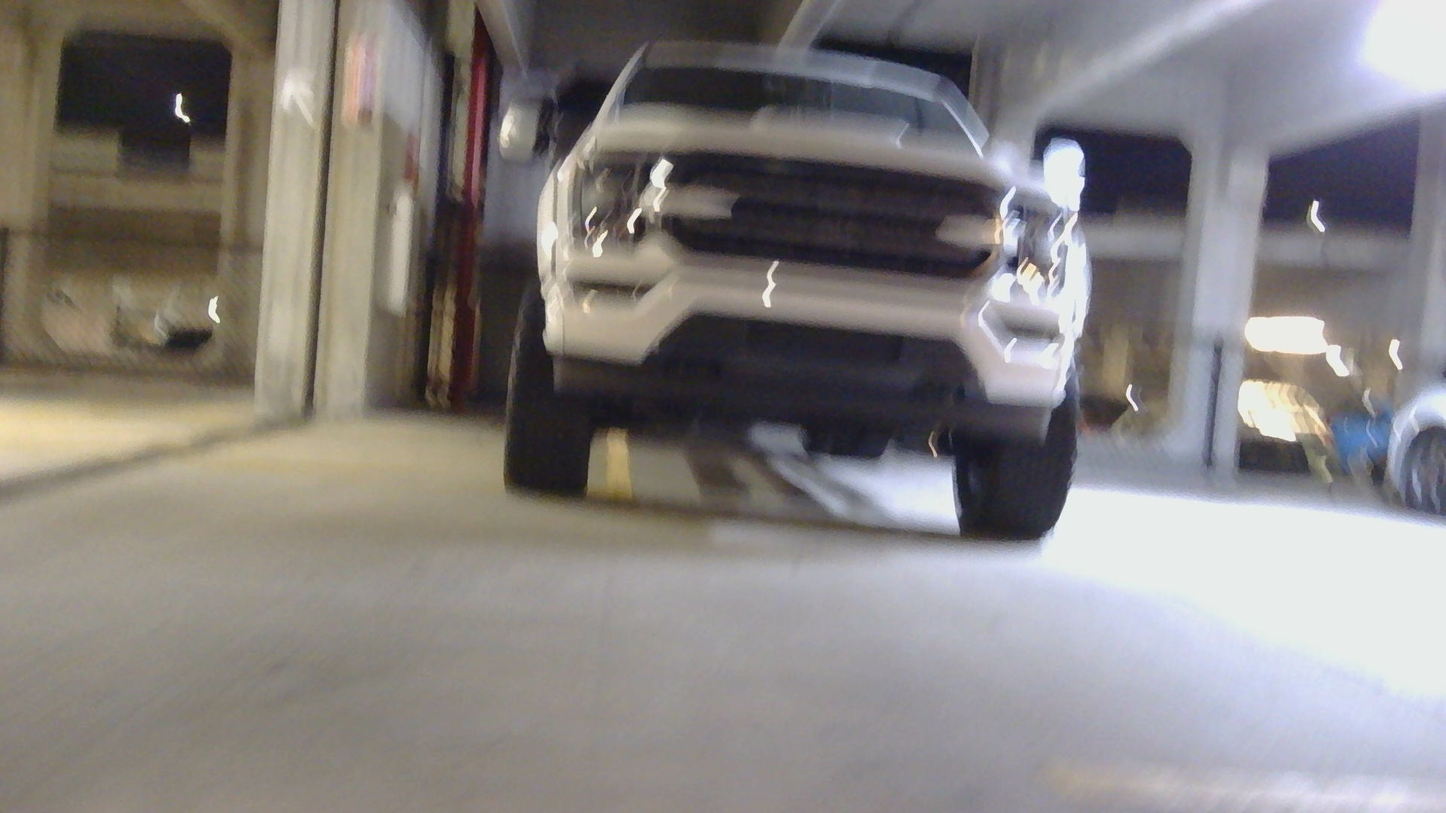occupied_spot: (507, 30, 1093, 538)
